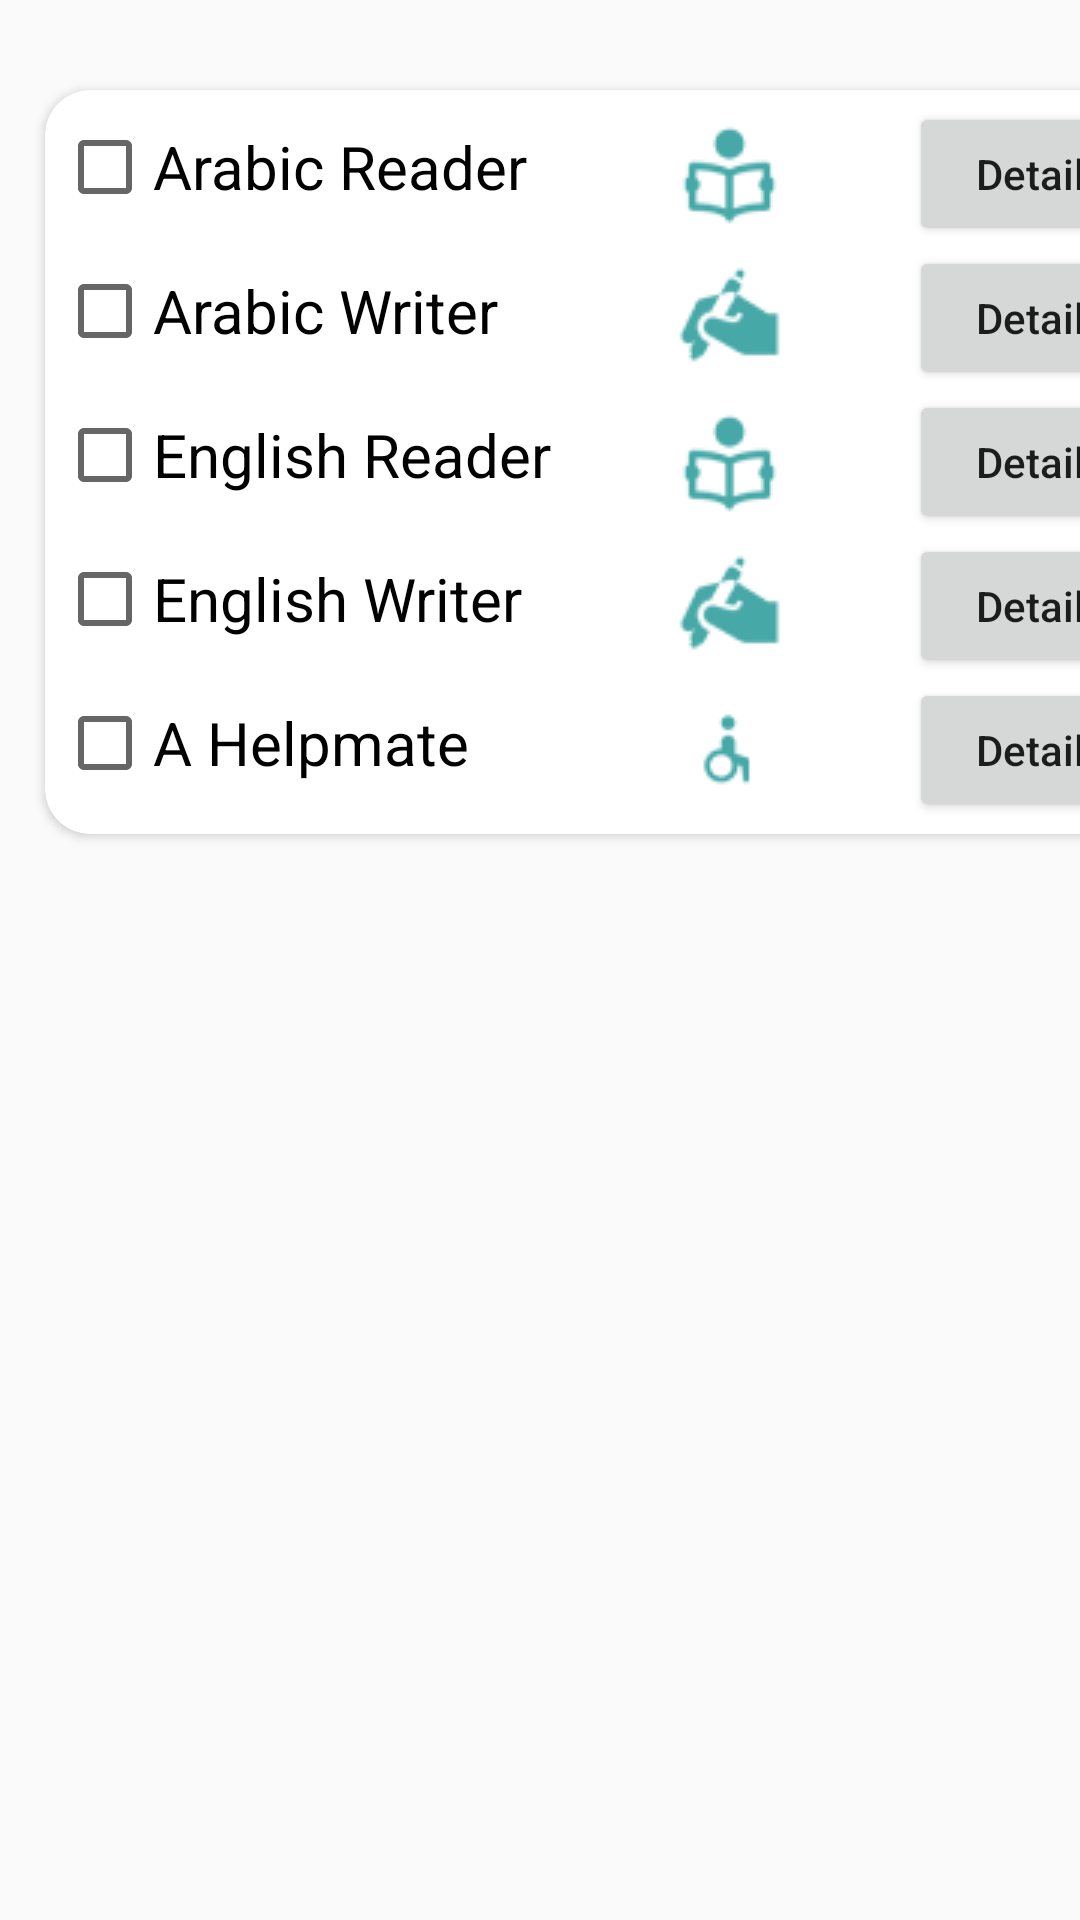

Where icons sit on this 1080 x 1920 app screen, as [x1,y1,x2,y2]:
reading: [683,127,776,224], [683,415,776,512]
wheelchair: [703,714,750,784]
writing: [679,268,780,362], [679,556,780,650]
